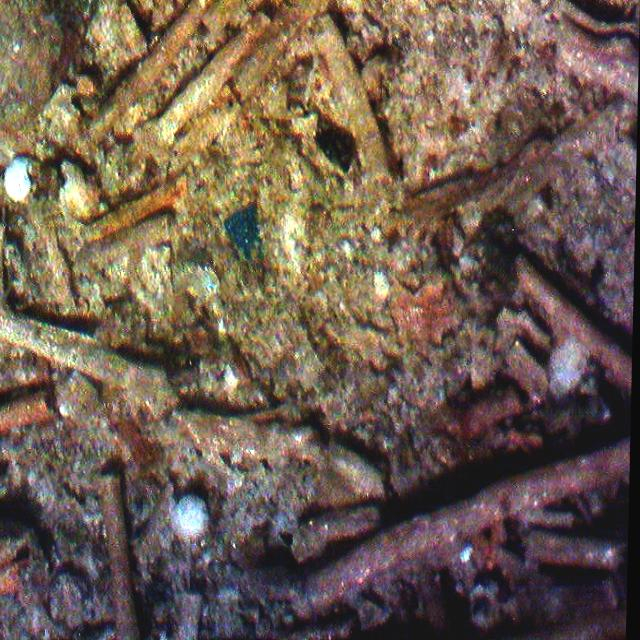microplastic: (225, 203, 260, 262)
